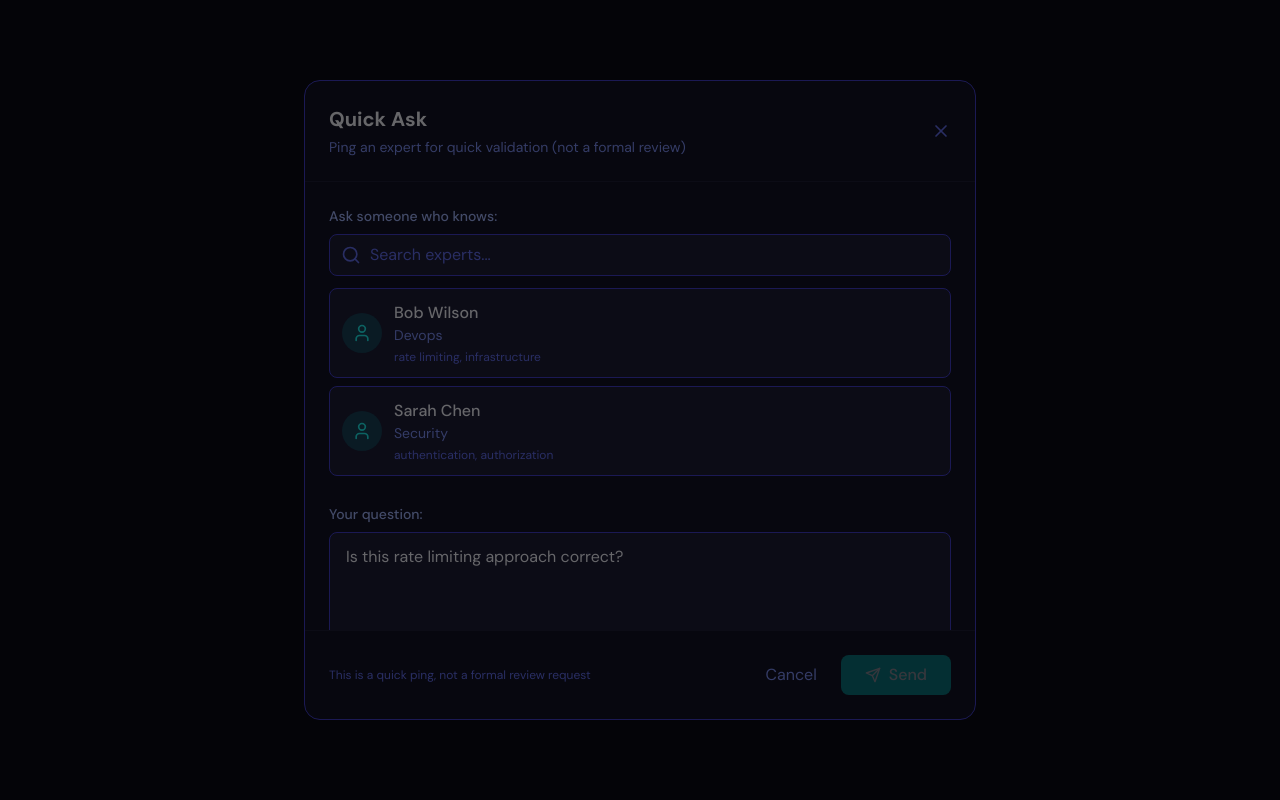
it: ExpertAskModal › enables send button when expert selected and question provided
Select an expert
What coordinates should you click on to do the following:
click the button "Bob Wilson"
I would click on:
 (362, 333)
Its box is left=329, top=288, right=951, bottom=378.
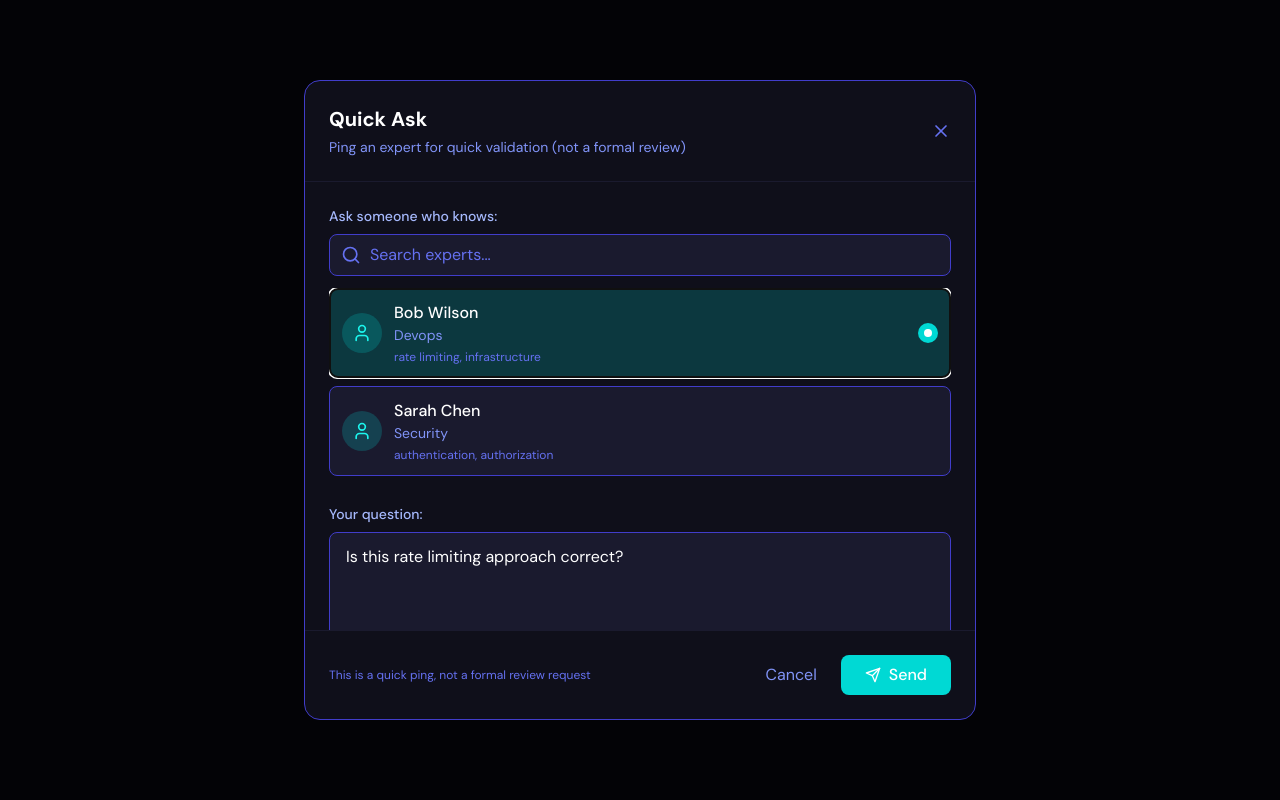
Expected: the button "Send" is enabled, left=841, top=655, right=951, bottom=695
